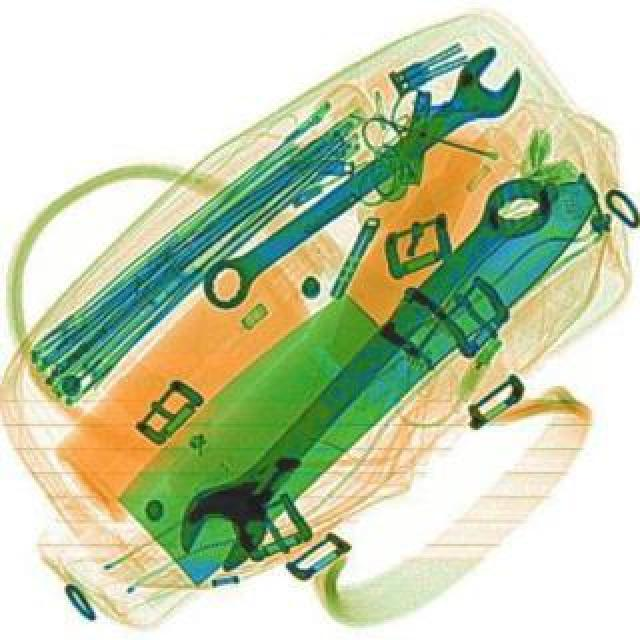knife: (98, 116, 614, 588)
scissors: (156, 154, 568, 582), (186, 40, 536, 320)
